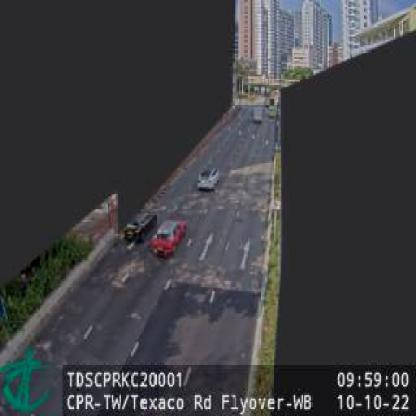Car: (152, 218, 186, 257), (127, 211, 157, 243), (197, 166, 219, 190)
Truck: (252, 104, 265, 123)
